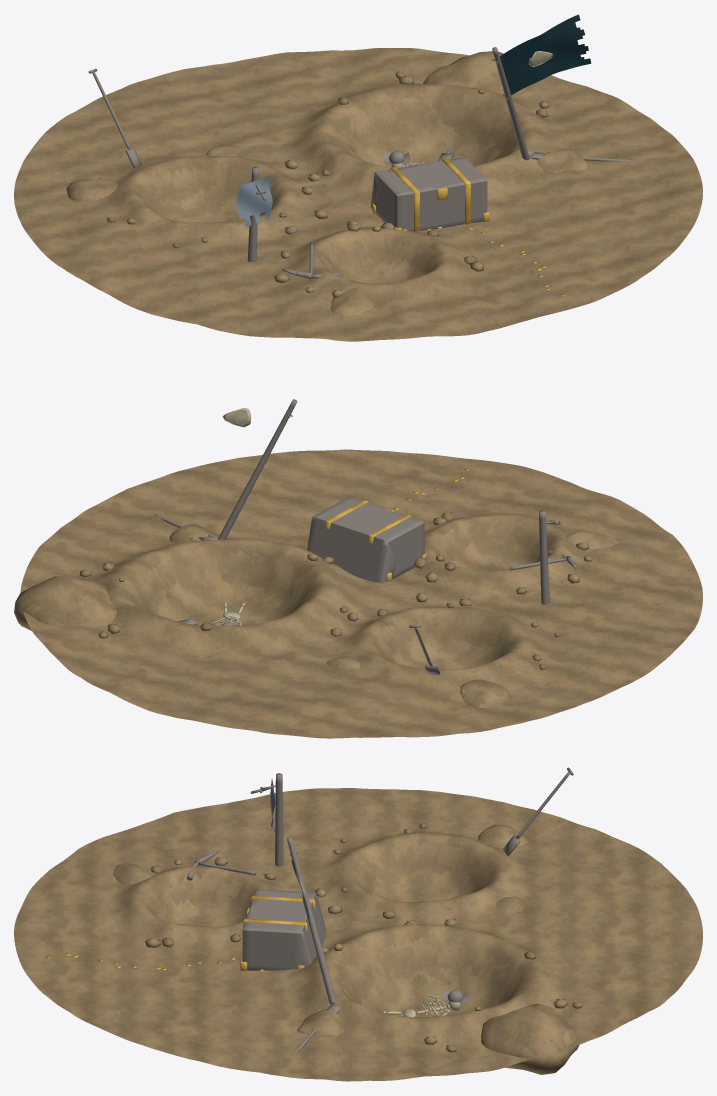
The model's file is dig_site.glb.
3 renders of one model, top to bottom at view 1: azimuth 30°, elevation 25°; view 2: azimuth 150°, elevation 25°; view 3: azimuth 270°, elevation 25°, orthographic.
Visible parts, largest first — view 1: dig_site; view 2: dig_site; view 3: dig_site.
Part boxes in pixels (x1,y1,x2,y2): dig_site: [14, 14, 702, 341]; dig_site: [14, 399, 702, 738]; dig_site: [14, 767, 702, 1081].
Size of the model in its own units: 10 by 3.12 by 10.
Materials: 6 (6 with a texture image).
